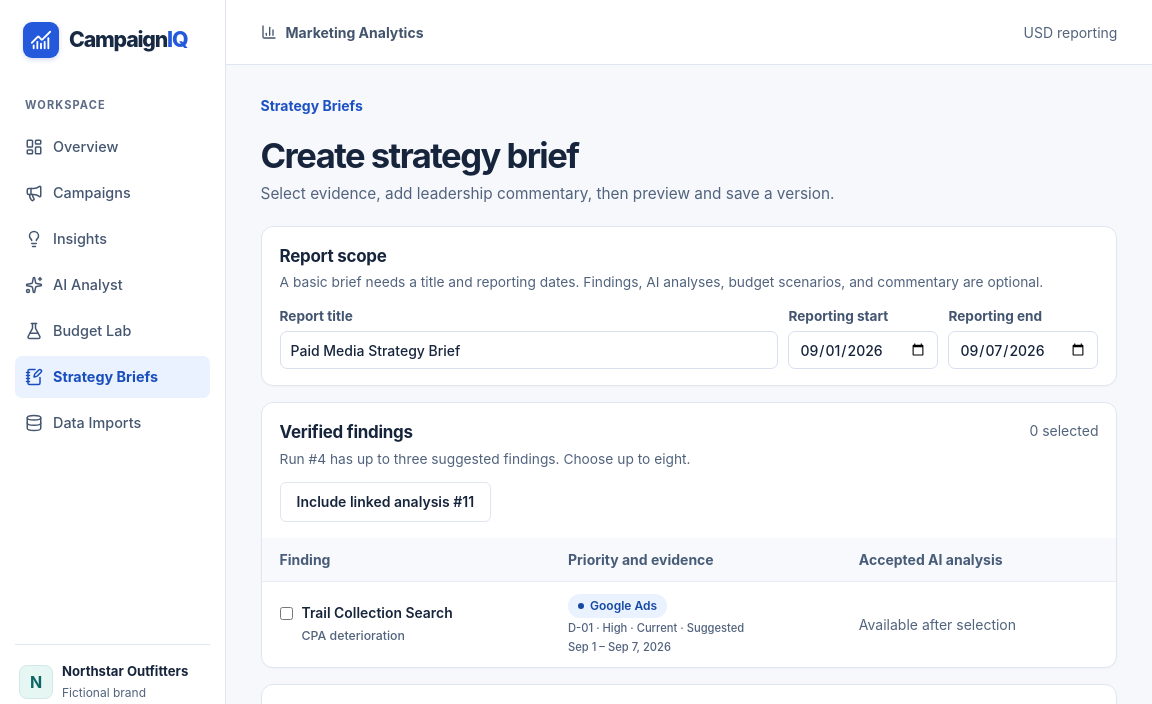
Test: uses linked evidence only after an explicit choice
Expected: the text "0 selected" is shown, [1029,420,1098,441]
Step 1. Click the button "Include linked analysis #11" → {"x": 385, "y": 502}, box [280,482,491,522]
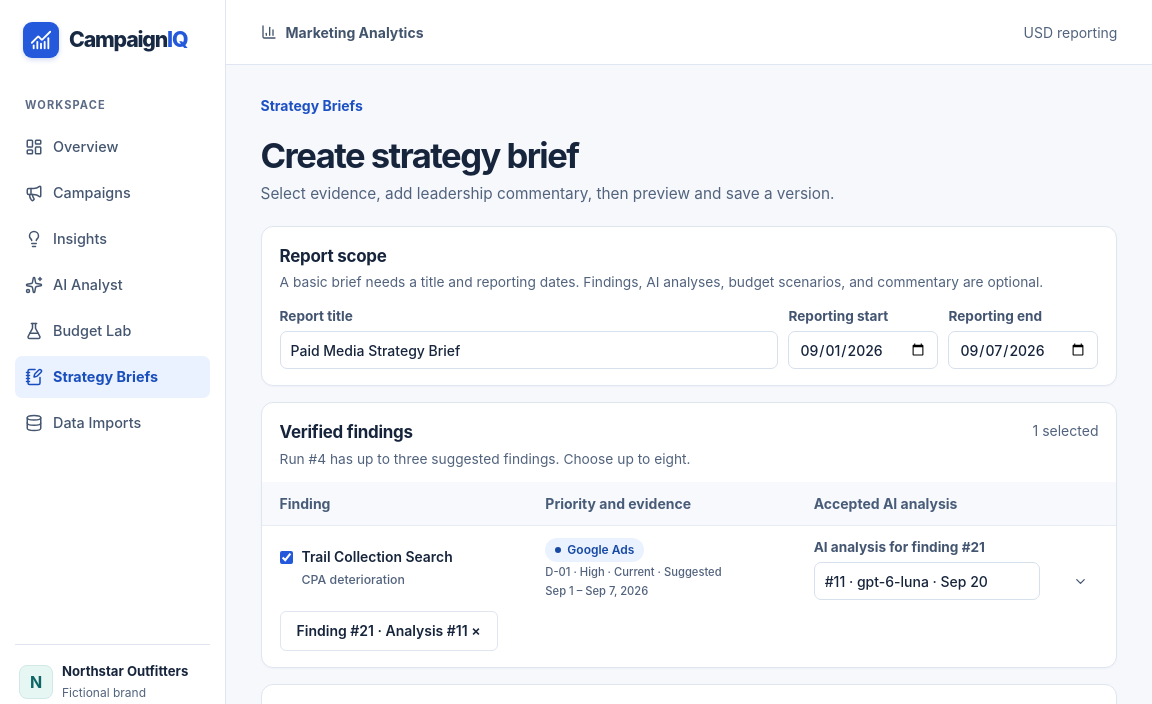
Expected: the text "1 selected" is shown, [1032,420,1098,441]
Expected: the dropdown labelled "AI analysis for finding #21" shows "#11 · gpt-6-luna · Sep 20", [814,562,1040,600]
